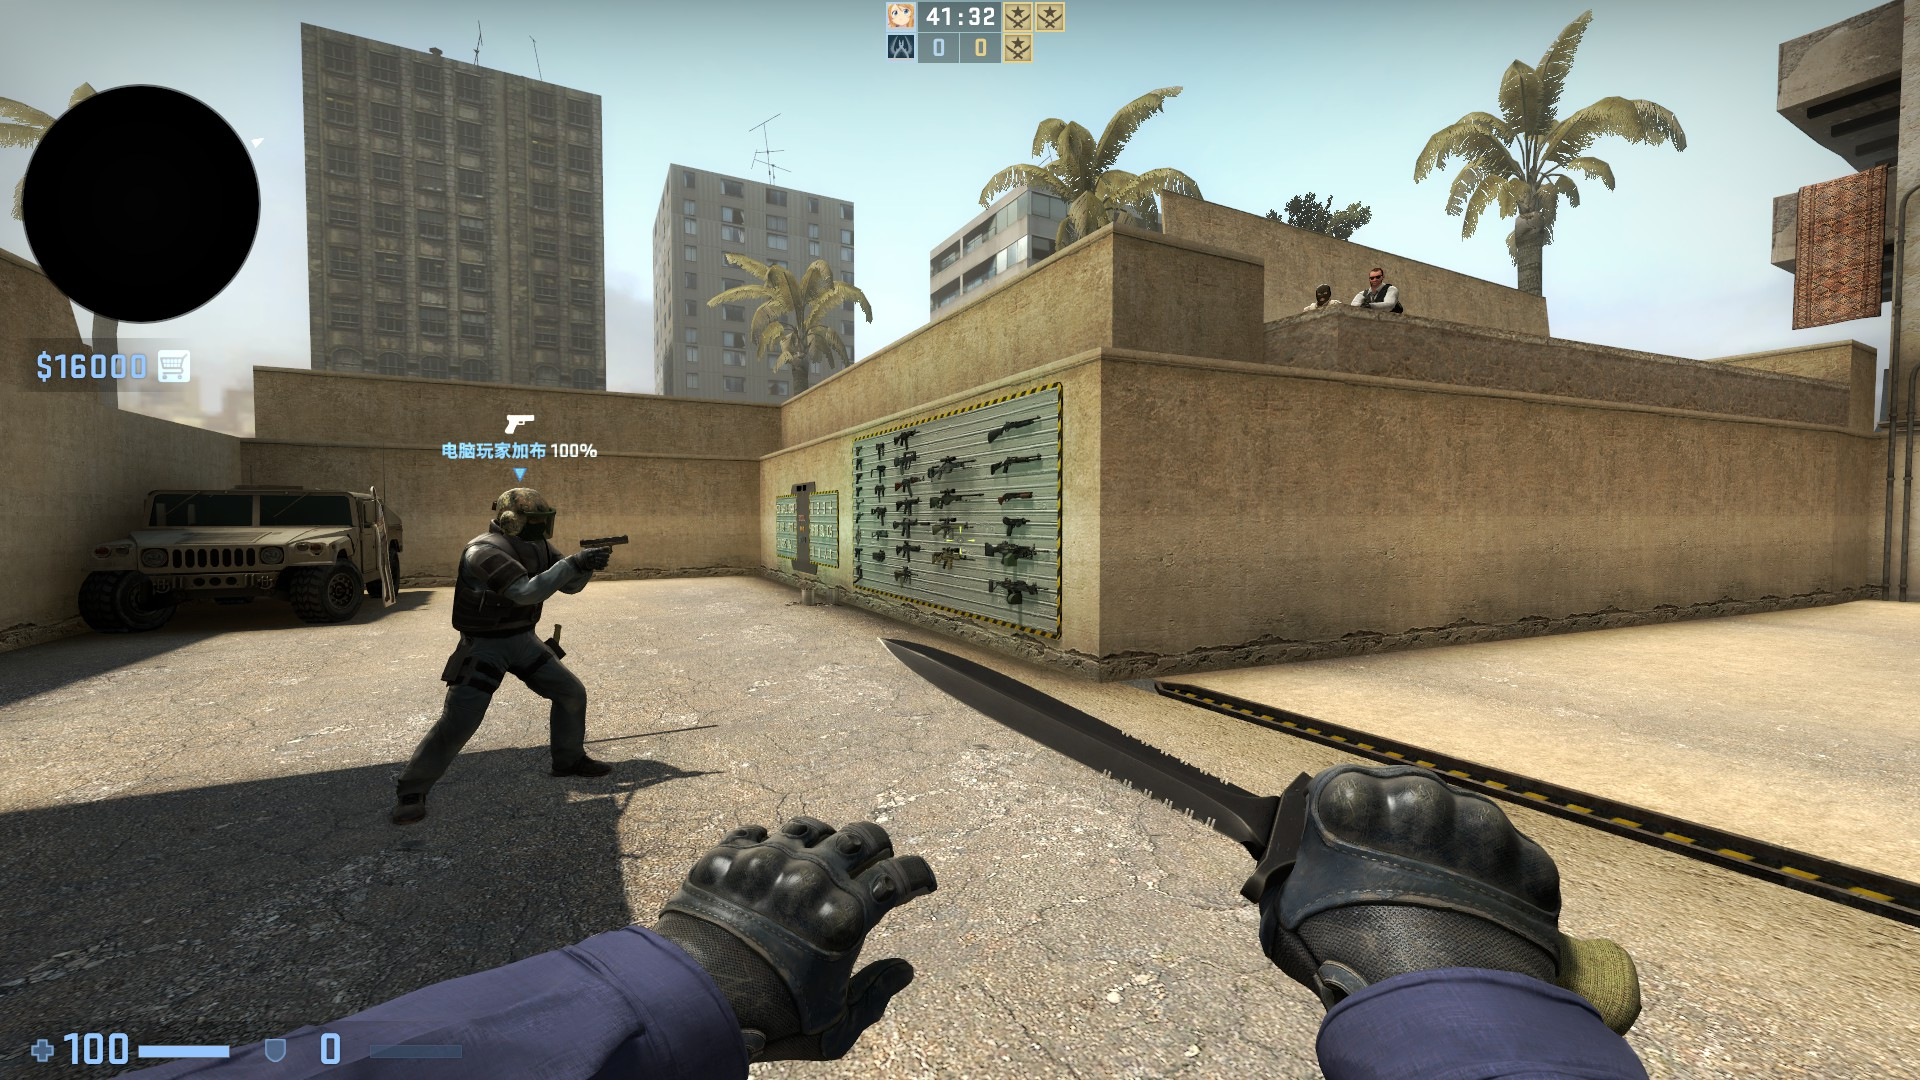head: (485, 481, 567, 544), (1312, 281, 1331, 304), (1366, 266, 1383, 290), (370, 485, 379, 505)
